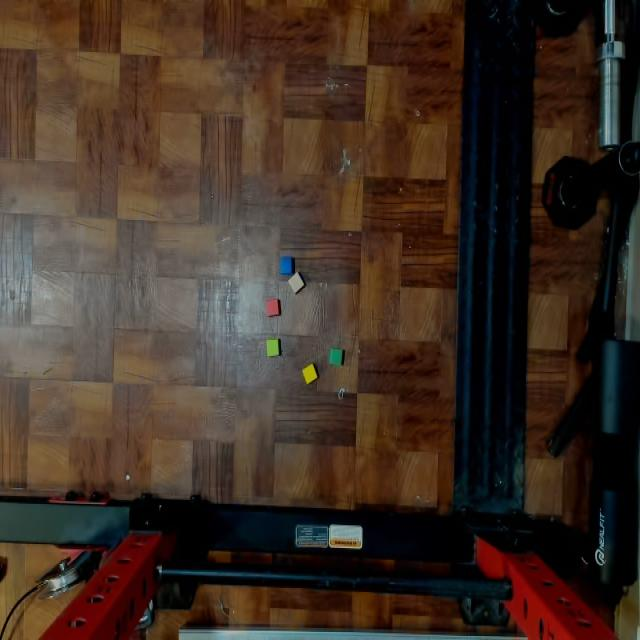block: (289, 272, 305, 293), (303, 363, 317, 383), (280, 256, 294, 275), (266, 337, 280, 355), (267, 299, 281, 316), (329, 349, 343, 364)
